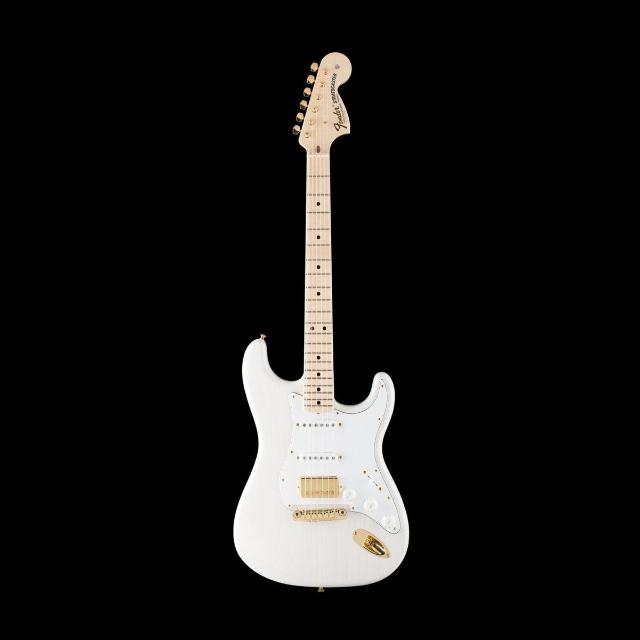Electric-Guitar: (233, 33, 414, 625)
